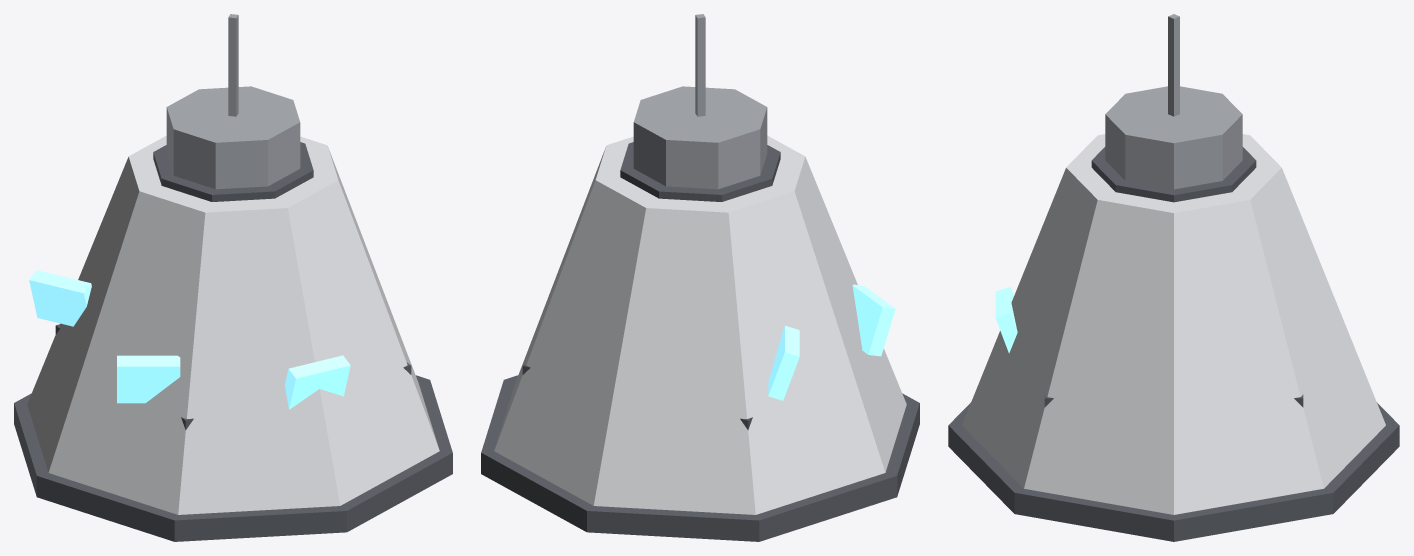
3 views of the same model, side by side, from view 1: azimuth 30°, elevation 25°; view 2: azimuth 150°, elevation 25°; view 3: azimuth 270°, elevation 25° (orthographic).
Visible parts, largest first — view 1: capsule; view 2: capsule; view 3: capsule.
Part boxes in pixels (x1,y1,x2,y2): capsule: [14, 14, 452, 541]; capsule: [481, 14, 919, 541]; capsule: [948, 14, 1399, 541].
Size of the model in its own units: 2.3 by 2.42 by 2.3.
